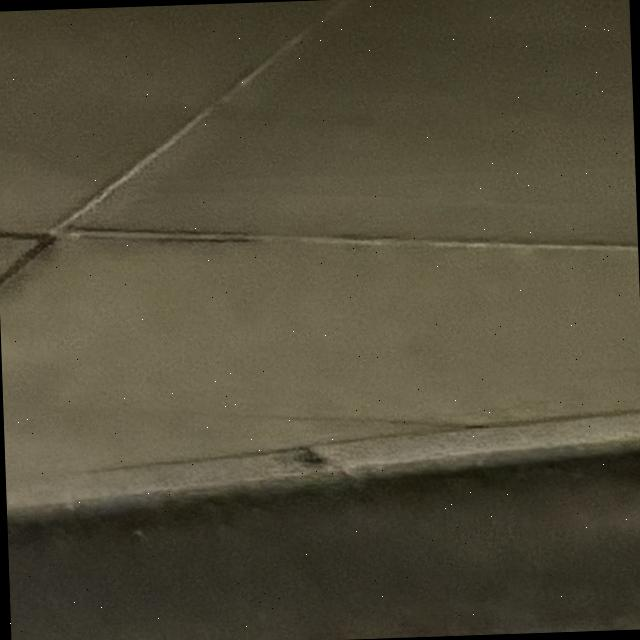curb: (6, 411, 640, 520)
